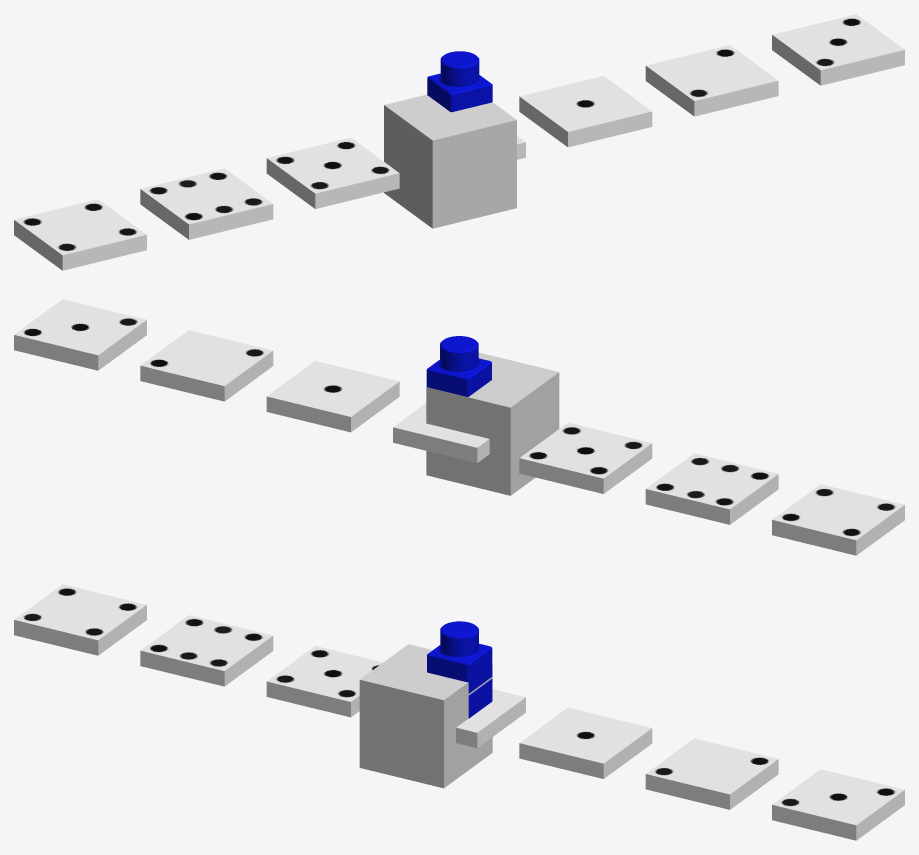
Rendered from blue.glb.
3 views of the same model, one above another, from view 1: azimuth 30°, elevation 25°; view 2: azimuth 150°, elevation 25°; view 3: azimuth 330°, elevation 25° (orthographic).
Visible parts, largest first — view 1: Cube, Dom.101, Dom.303, Dom.212, Dom.010, Dom.202, Dom.111, Cube.001; view 2: Cube, Dom.101, Dom.303, Dom.212, Dom.010, Dom.202, Dom.111, Cube.001, Dom.000; view 3: Cube, Dom.101, Dom.303, Dom.010, Dom.202, Dom.111, Dom.212, Cube.001, Dom.000.
Part boxes in pixels (box(x1,y1,x2,y2)): Cube: box(384, 94, 516, 228); Dom.101: box(645, 45, 778, 116); Dom.303: box(140, 168, 273, 239); Dom.212: box(266, 137, 399, 208); Dom.010: box(519, 76, 652, 147); Dom.202: box(14, 199, 146, 270); Dom.111: box(772, 14, 904, 85); Cube.001: box(427, 51, 492, 112); Cube: box(426, 352, 559, 495); Dom.101: box(140, 330, 273, 401); Dom.303: box(645, 453, 778, 524); Dom.212: box(519, 422, 652, 493); Dom.010: box(266, 361, 399, 432); Dom.202: box(772, 484, 904, 555); Dom.111: box(14, 299, 146, 370); Cube.001: box(426, 336, 491, 396); Dom.000: box(393, 403, 489, 462); Cube: box(359, 644, 492, 788); Dom.101: box(645, 738, 778, 809); Dom.303: box(140, 615, 273, 686); Dom.010: box(519, 707, 652, 778); Dom.202: box(14, 584, 146, 655); Dom.111: box(772, 769, 904, 840); Dom.212: box(266, 646, 382, 717); Cube.001: box(427, 621, 492, 718); Dom.000: box(456, 689, 525, 747).
Size of the model in its own units: 20 by 2.9 by 2.5.
Materials: 8 (6 with a texture image).
